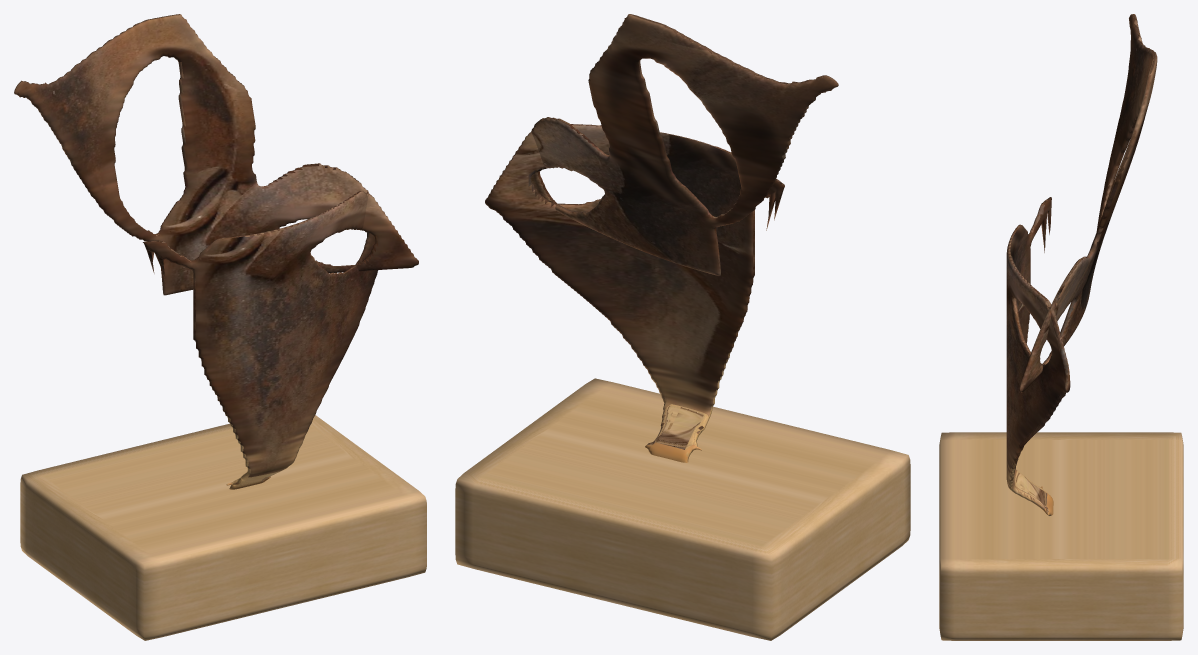
The model's file is hy3d-esc-034.glb.
3 views of the same model, side by side, from view 1: azimuth 30°, elevation 25°; view 2: azimuth 150°, elevation 25°; view 3: azimuth 270°, elevation 25° (orthographic). The views are drawn at different scales.
Parts seen in each view (by area): view 1: world; view 2: world; view 3: world.
Part boxes in pixels (box(x1,y1,x2,y2)): world: box(14, 14, 426, 640); world: box(455, 14, 910, 640); world: box(939, 14, 1183, 640).
Size of the model in its own units: 0.3187 by 0.4492 by 0.1985.
1 material, 1 textured.
